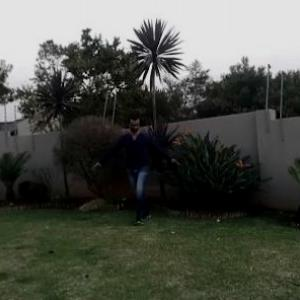land: (92, 105, 190, 229)
